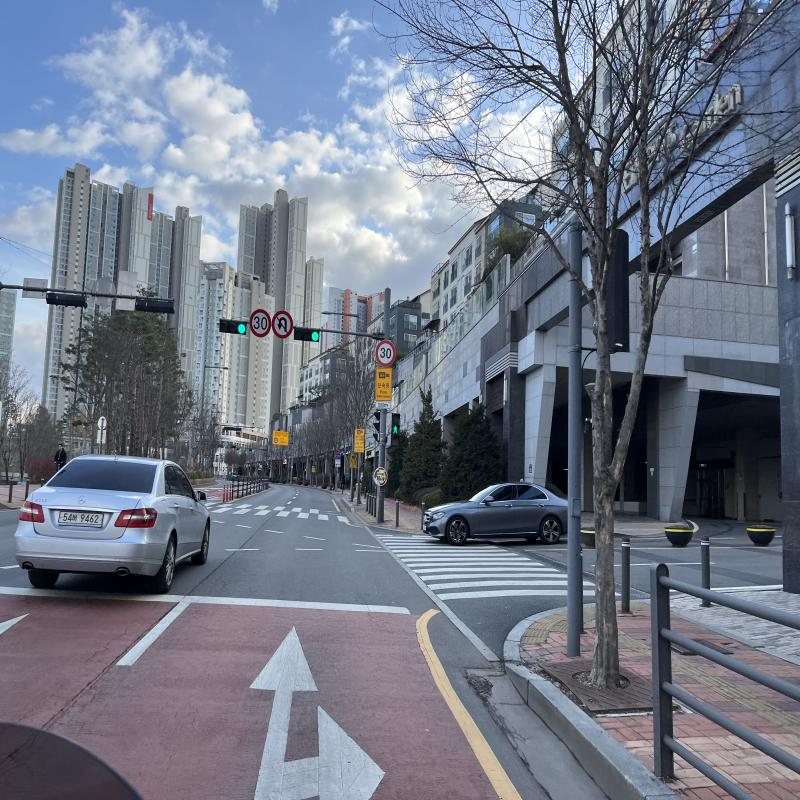green: (237, 323, 247, 334), (312, 332, 319, 342)
